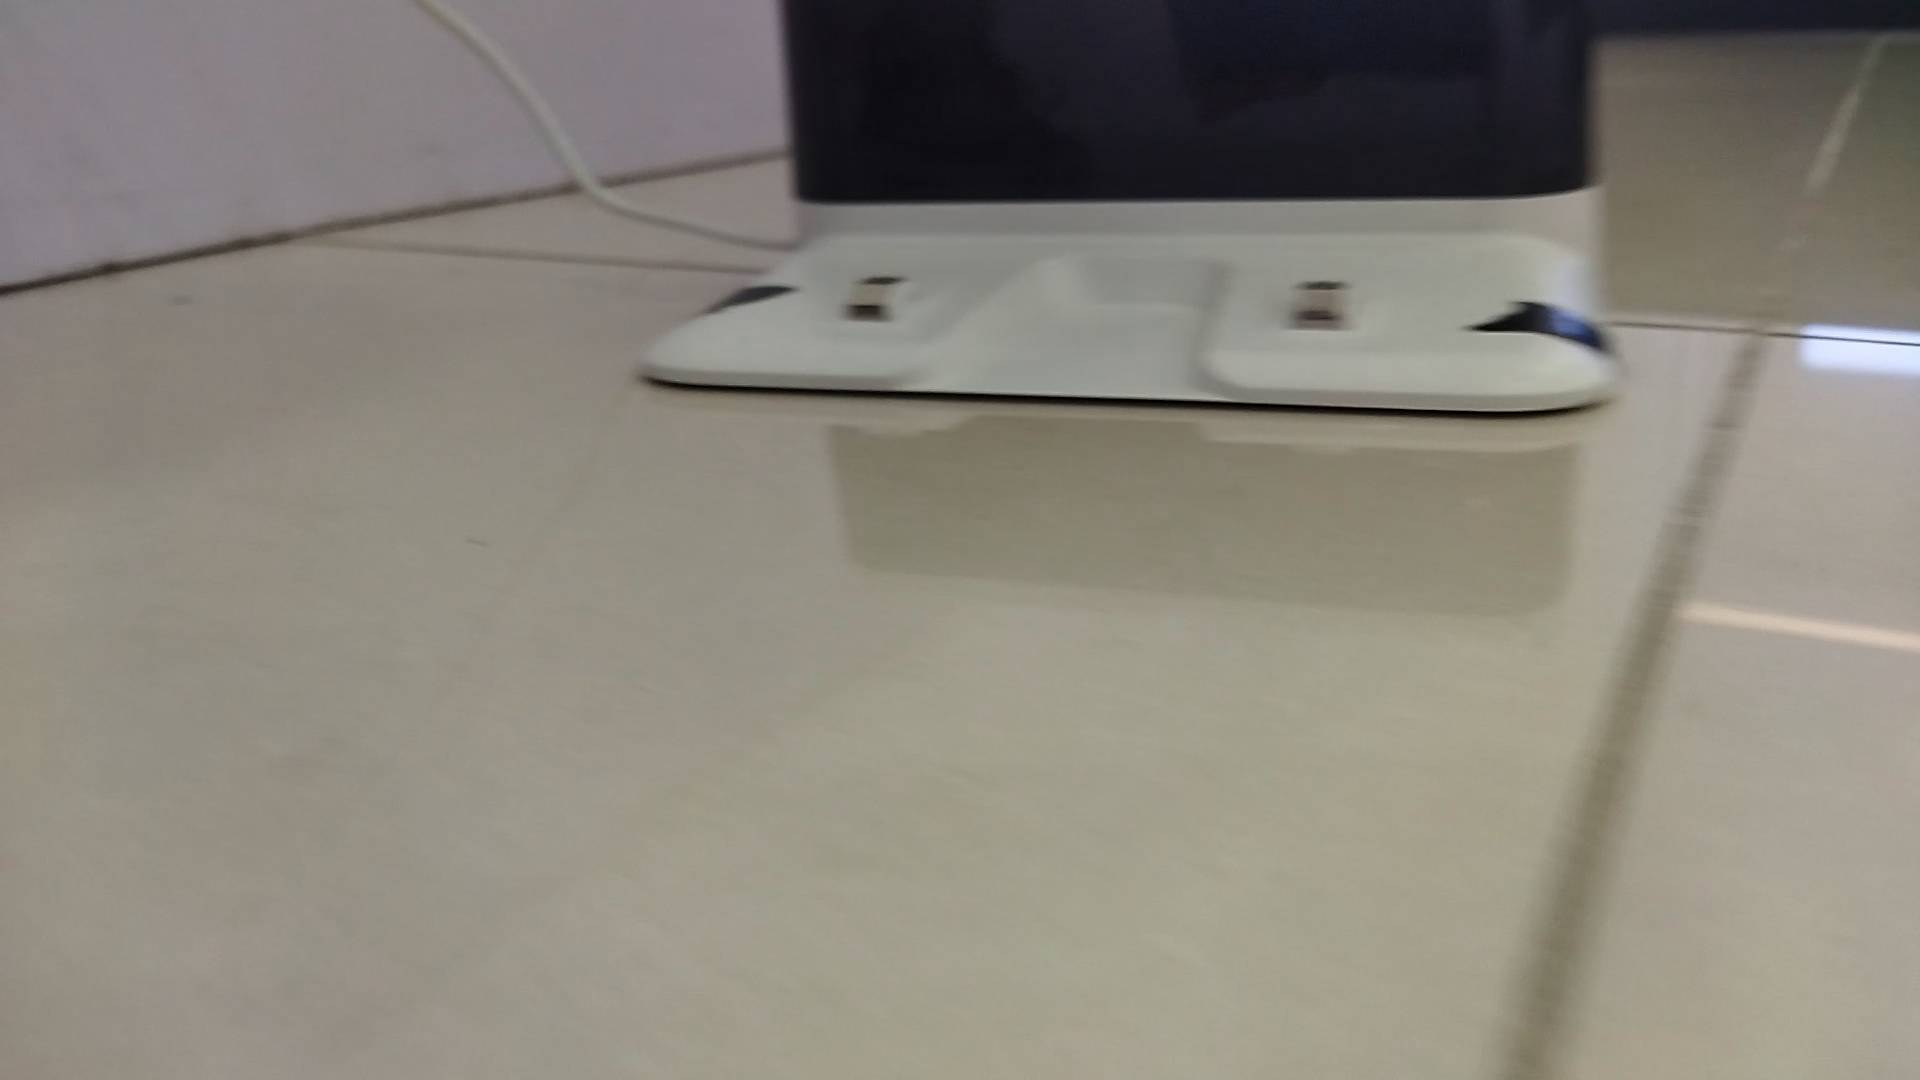recharge seat: (637, 1, 1623, 417)
